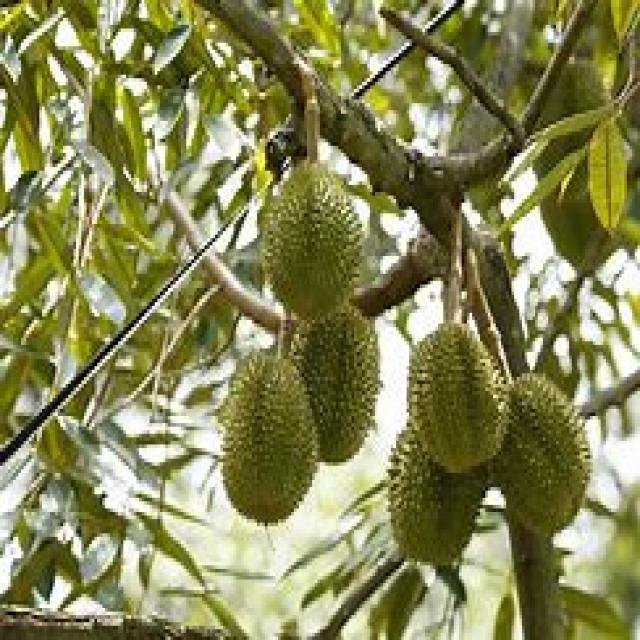immature: (218, 350, 319, 525), (490, 370, 592, 542), (286, 296, 384, 471), (265, 160, 364, 326), (406, 322, 510, 475), (389, 416, 492, 569)
